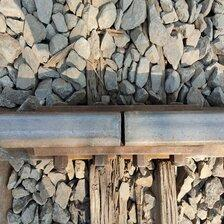railway-gap: (96, 100, 149, 155)
